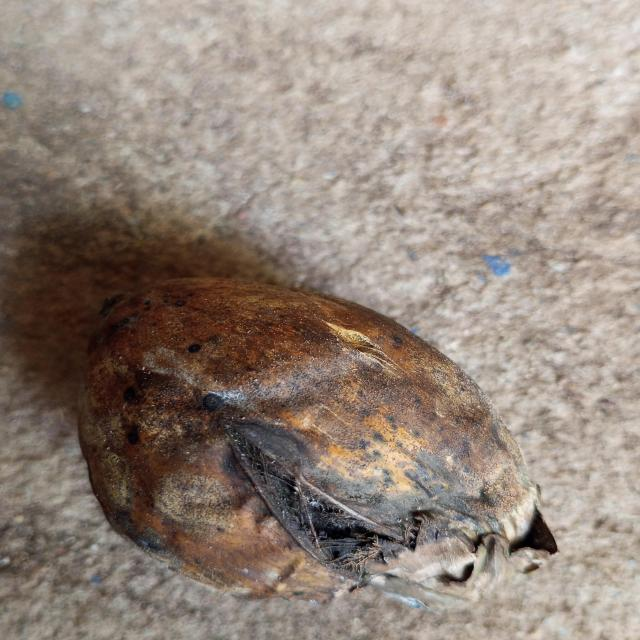damaged: (78, 279, 556, 600)
